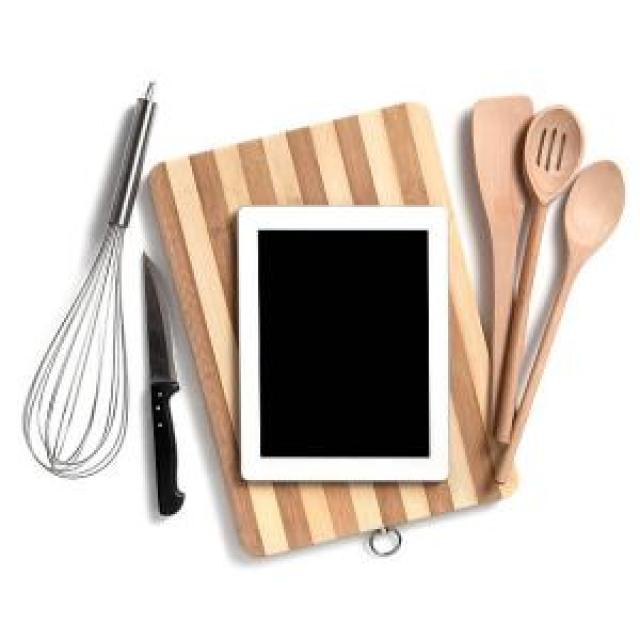knife: (137, 245, 193, 526)
